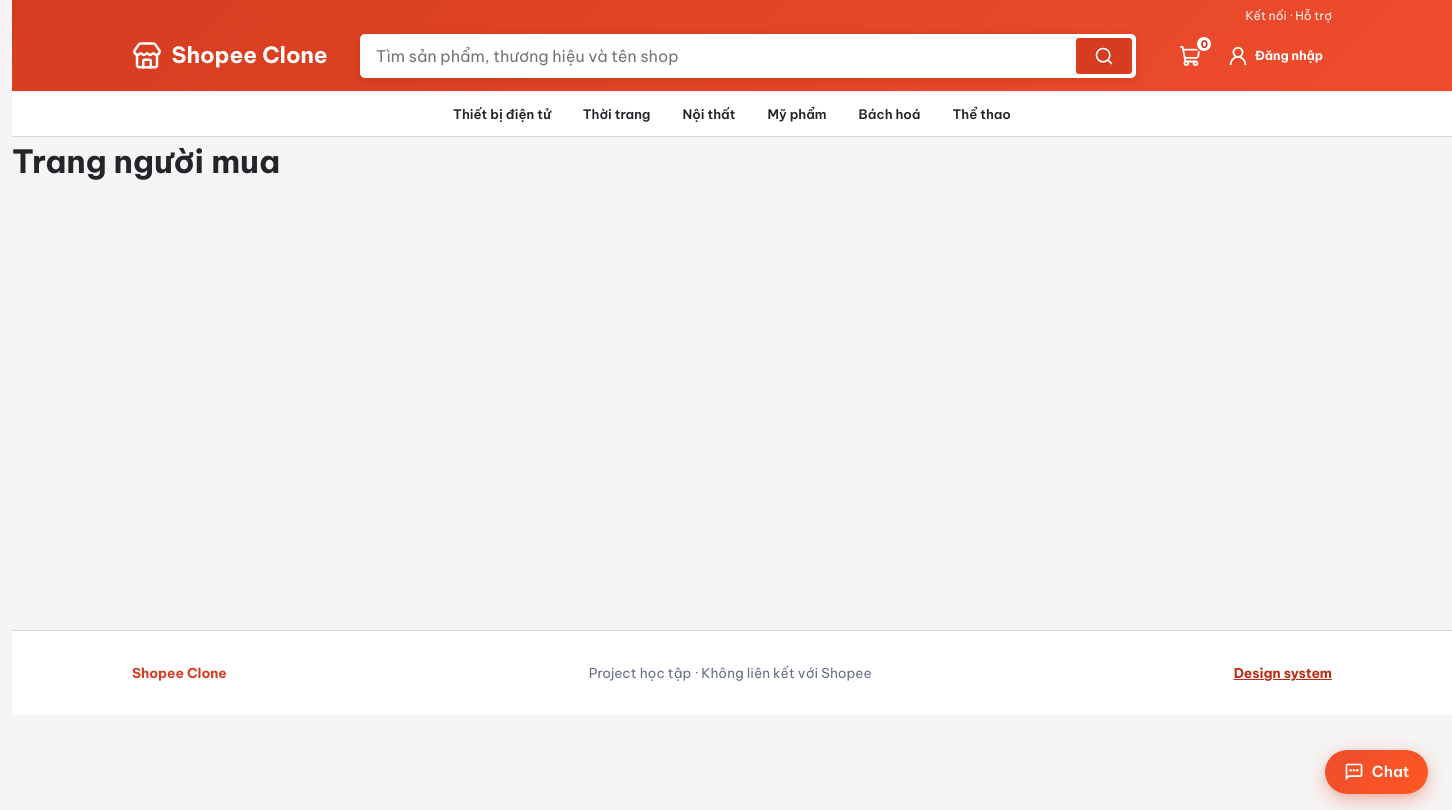
Test case: StorefrontShell › requests suggestions after the first character when typing pauses
Type "q" into the search field named "Tìm kiếm sản phẩm".
click(718, 56); type("q")  # box [362,36,1074,76]
Wait 500 ms
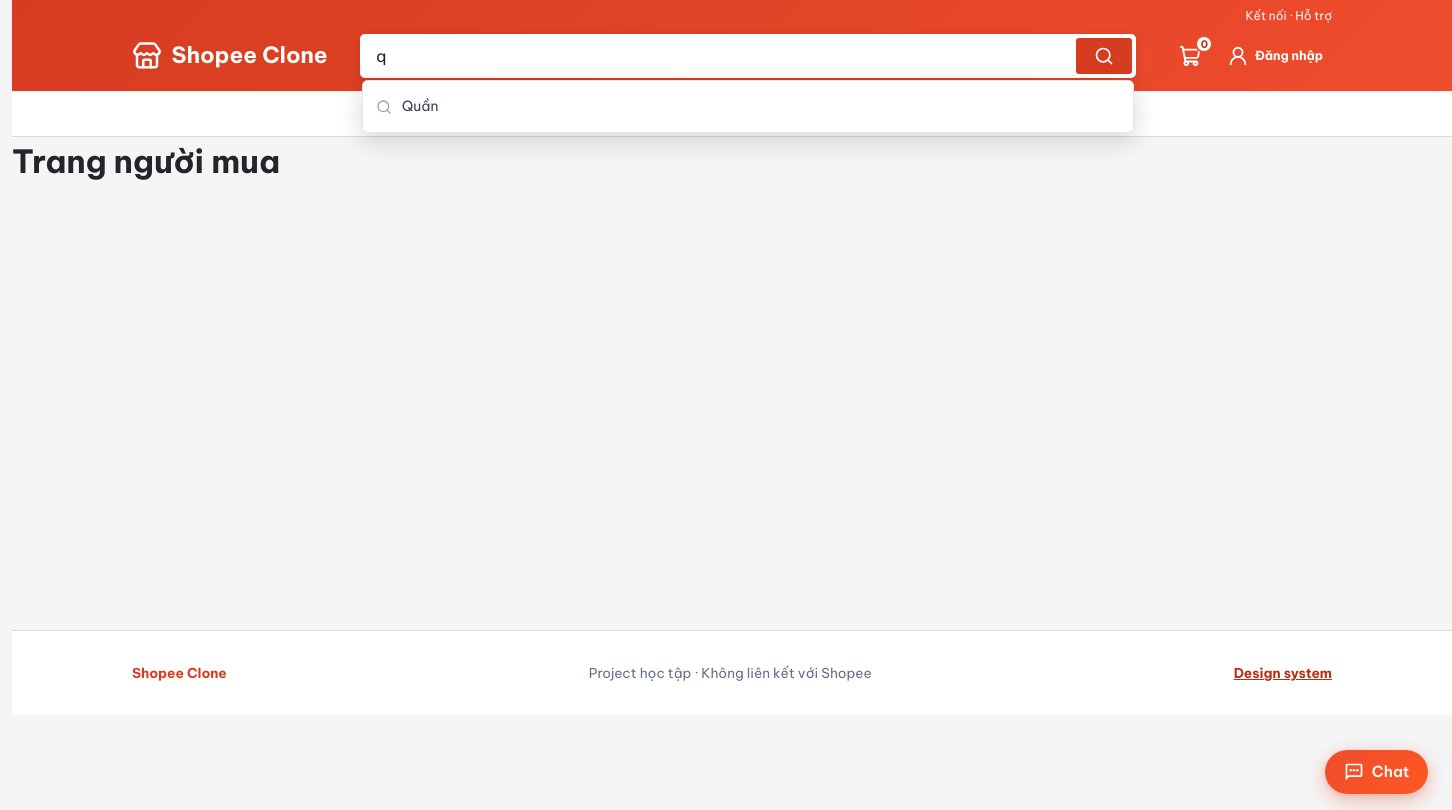
Expected: the option reads "Quần", [376,97,438,115]
